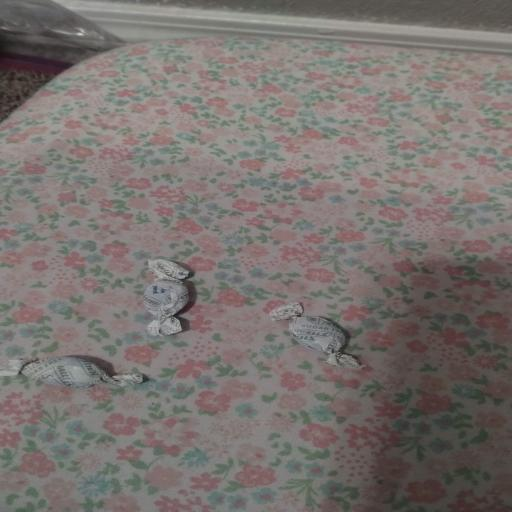chocolate: (270, 303, 365, 368), (0, 357, 142, 387), (144, 260, 188, 336)
